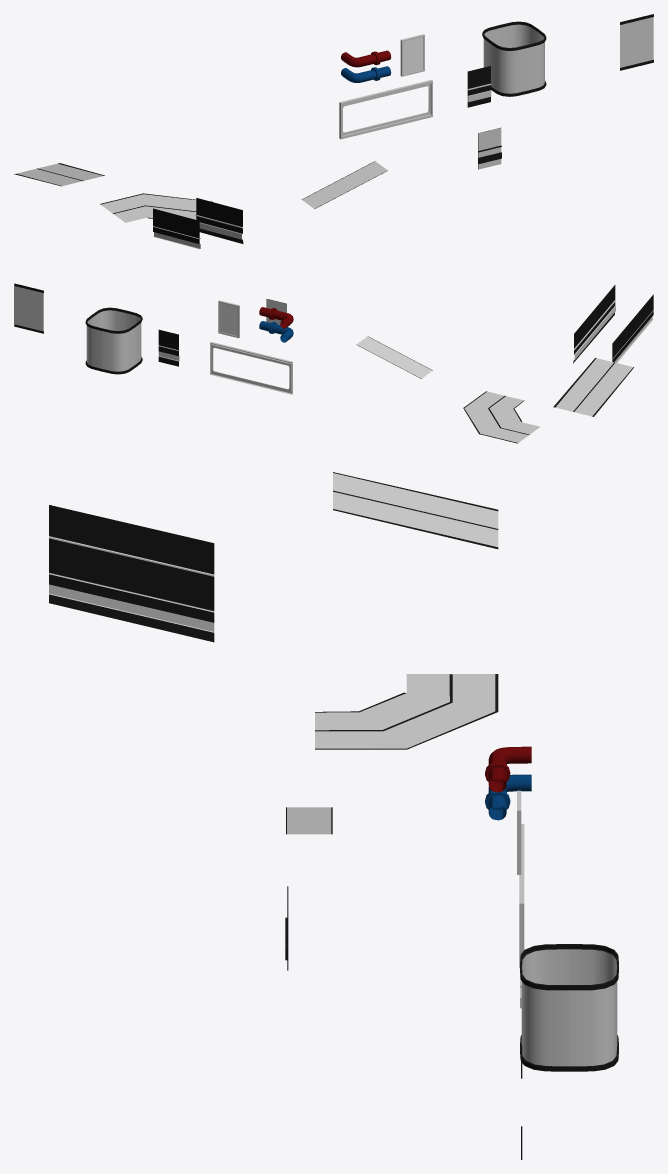
The model's file is LabModular2.fbx.
The picture shows the model from 3 angles, top to bottom: view 1: azimuth 30°, elevation 25°; view 2: azimuth 150°, elevation 25°; view 3: azimuth 270°, elevation 25°; orthographic projection. The views are drawn at different scales.
Visible parts, largest first — view 1: CornerWall.002, TurnWAy, NormWall, UPWayWall.001, UPWayWall, UPWay, UPFloor, CornerWall.003, Door, RoomWall, Wall2Inverse, CornerWall (+6 smaller); view 2: UPFloor, TurnWAy, CornerWall.001, NormWall, UPWayWall.001, UPWayWall, UPWay, CornerWall, Door, Wall2Inverse, CornerWall.003, CornerWall.002 (+6 smaller); view 3: UPWayWall.001, TurnWAy, UPFloor, UPWayWall, CornerWall, CornerWall.003, CornerWall.001, CornerWall.002, UPWay, RedTurnPipe, BlueTurnPipe.
Part boxes in pixels (x1,y1,x2,y2): CornerWall.002: (490,41,528,96); TurnWAy: (100,193,212,222); NormWall: (620,14,653,70); UPWayWall.001: (195,198,243,243); UPWayWall: (153,208,200,249); UPWay: (301,161,387,208); UPFloor: (14,163,104,186); CornerWall.003: (527,29,546,93); Door: (400,34,424,76); RoomWall: (478,127,501,169); Wall2Inverse: (467,66,491,107); CornerWall: (500,21,538,47); UPFloor: (553,358,633,416); TurnWAy: (463,391,540,443); CornerWall.001: (101,324,135,374); NormWall: (14,283,43,333); UPWayWall.001: (573,285,615,363); UPWayWall: (611,294,653,362); UPWay: (356,336,432,378); CornerWall: (85,314,102,371); Door: (218,300,239,338); Wall2Inverse: (158,329,179,366); CornerWall.003: (92,307,125,330); CornerWall.002: (126,310,142,367); UPWayWall.001: (49,542,214,642); TurnWAy: (315,674,498,749); UPFloor: (333,472,498,549); UPWayWall: (49,505,214,580); CornerWall: (569,965,618,1071); CornerWall.003: (520,965,569,1071); CornerWall.001: (569,944,618,1046); CornerWall.002: (520,944,569,1046); UPWay: (286,807,332,834); RedTurnPipe: (485,746,531,792); BlueTurnPipe: (485,774,531,820).
Size of the model in its own units: 5599 by 700 by 2409.
